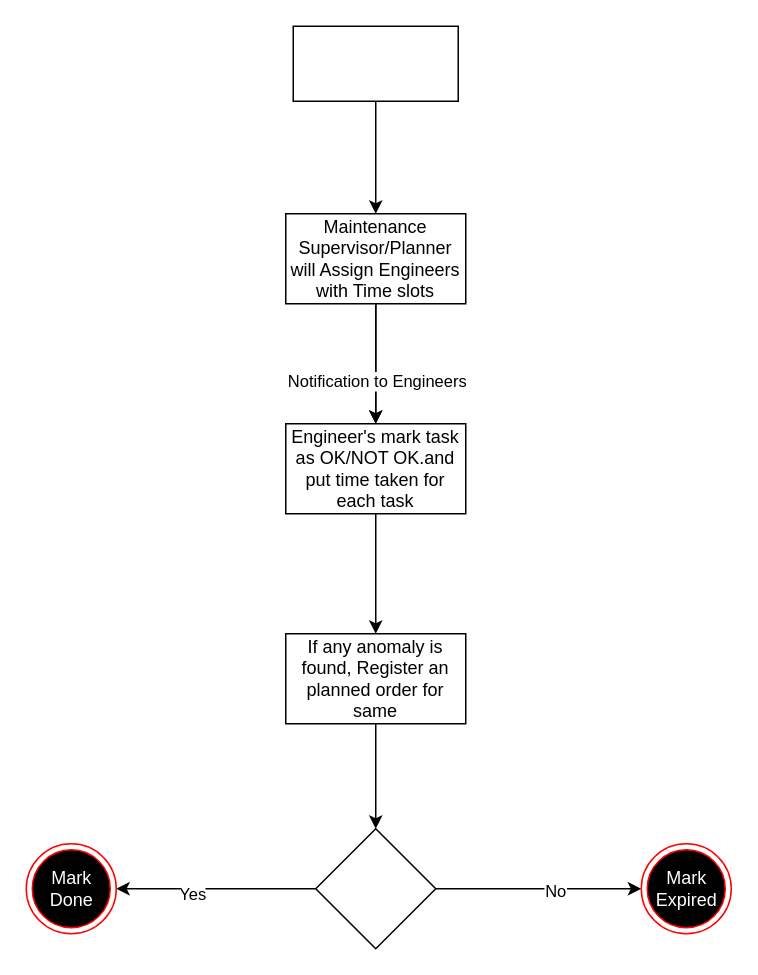
The diagram is 758 pixels wide and 975 high, and some of its shapes have lost their labels. The box of each missing label's shape, as (x1, y1, x2, y2) in pixels:
All task done: (314, 827, 436, 949)
Auto Generated Thermal Checklist Every Week: (292, 25, 458, 101)
